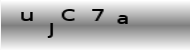7: (91, 7, 104, 22)
C: (60, 8, 76, 22)
J: (45, 22, 54, 39)
a: (116, 14, 129, 25)
u: (20, 11, 33, 21)
